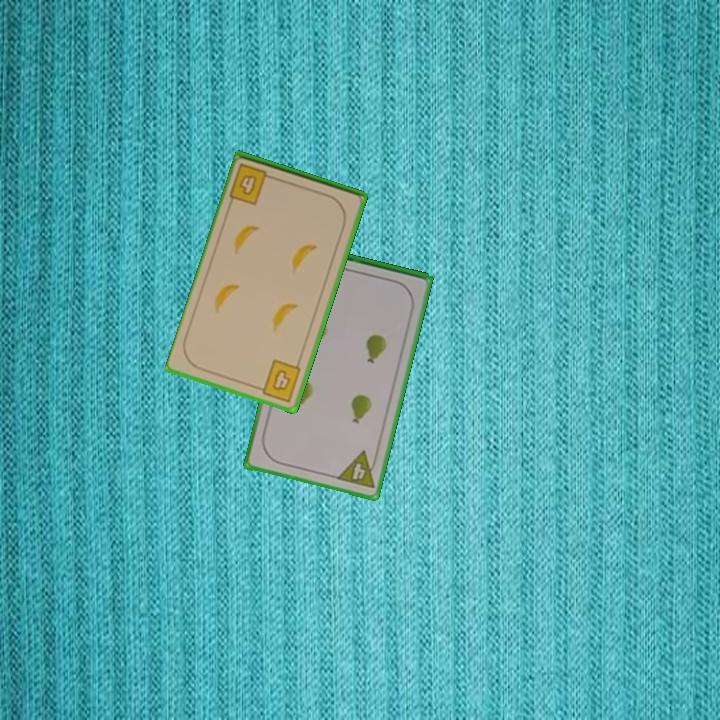4b: (253, 356, 304, 405), (226, 160, 278, 208)
4p: (333, 447, 381, 492)
